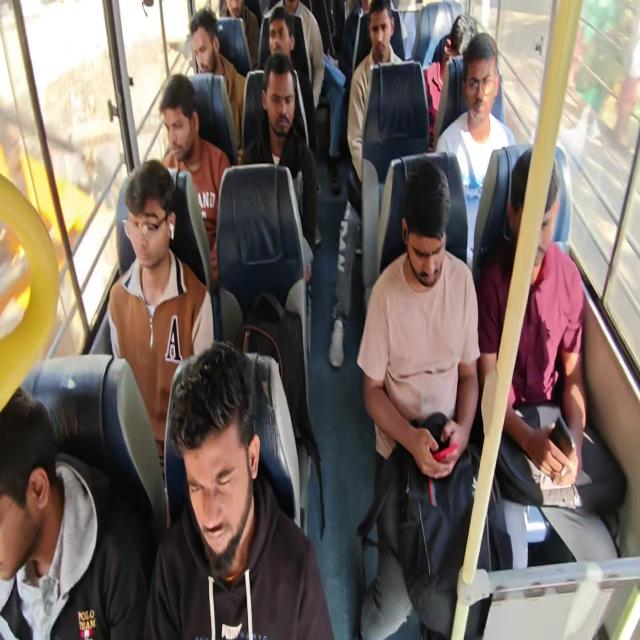person: (475, 145, 625, 566), (356, 158, 482, 638), (143, 340, 335, 638), (0, 385, 148, 638), (106, 160, 215, 490), (328, 0, 409, 368), (435, 32, 516, 271), (240, 52, 318, 280), (158, 73, 231, 287), (346, 0, 406, 186), (262, 5, 318, 158), (189, 7, 246, 152), (423, 12, 478, 149), (342, 0, 404, 91), (218, 0, 260, 70)
